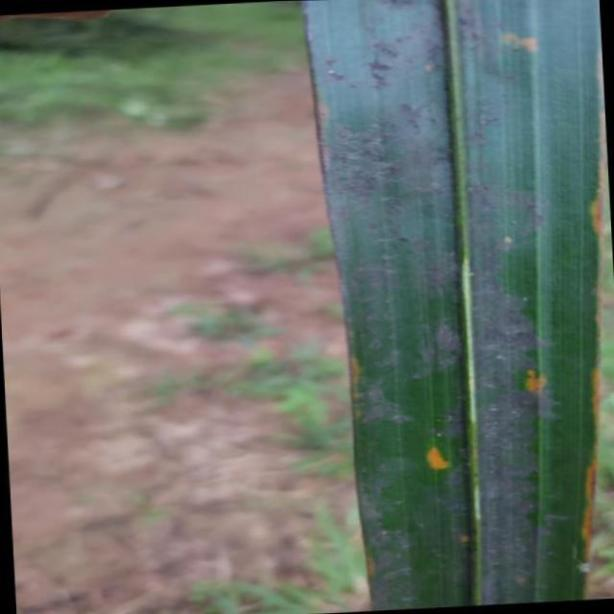Kalium: (299, 1, 606, 614)
